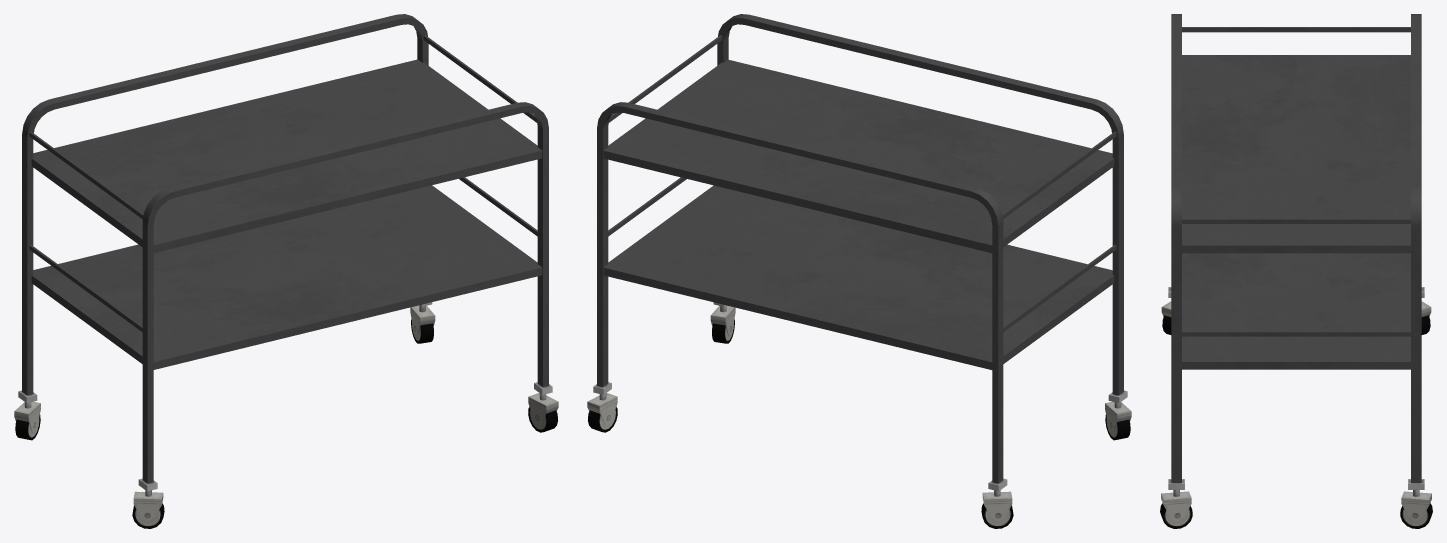
The model's file is HH_Medical_Trolley_Big.fbx.
The picture shows the model from 3 angles, left to right: view 1: azimuth 30°, elevation 25°; view 2: azimuth 150°, elevation 25°; view 3: azimuth 270°, elevation 25°; orthographic projection.
Parts seen in each view (by area): view 1: HH_Medical_Trolley_Big_LOD0; view 2: HH_Medical_Trolley_Big_LOD0; view 3: HH_Medical_Trolley_Big_LOD0.
Boxes of the visible parts, x1,y1,x2,y2 form: HH_Medical_Trolley_Big_LOD0: (14,14,558,528); HH_Medical_Trolley_Big_LOD0: (587,14,1131,528); HH_Medical_Trolley_Big_LOD0: (1160,14,1432,528).
Size of what is drawn, in the model's own units: 125 by 94.66 by 71.13.
